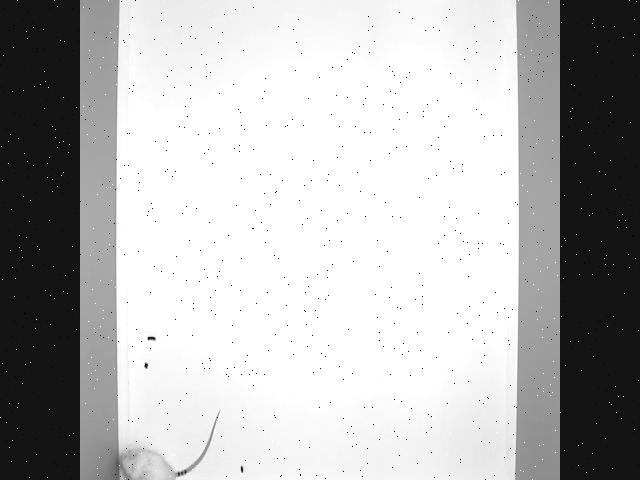Tikus: (116, 403, 226, 480)
